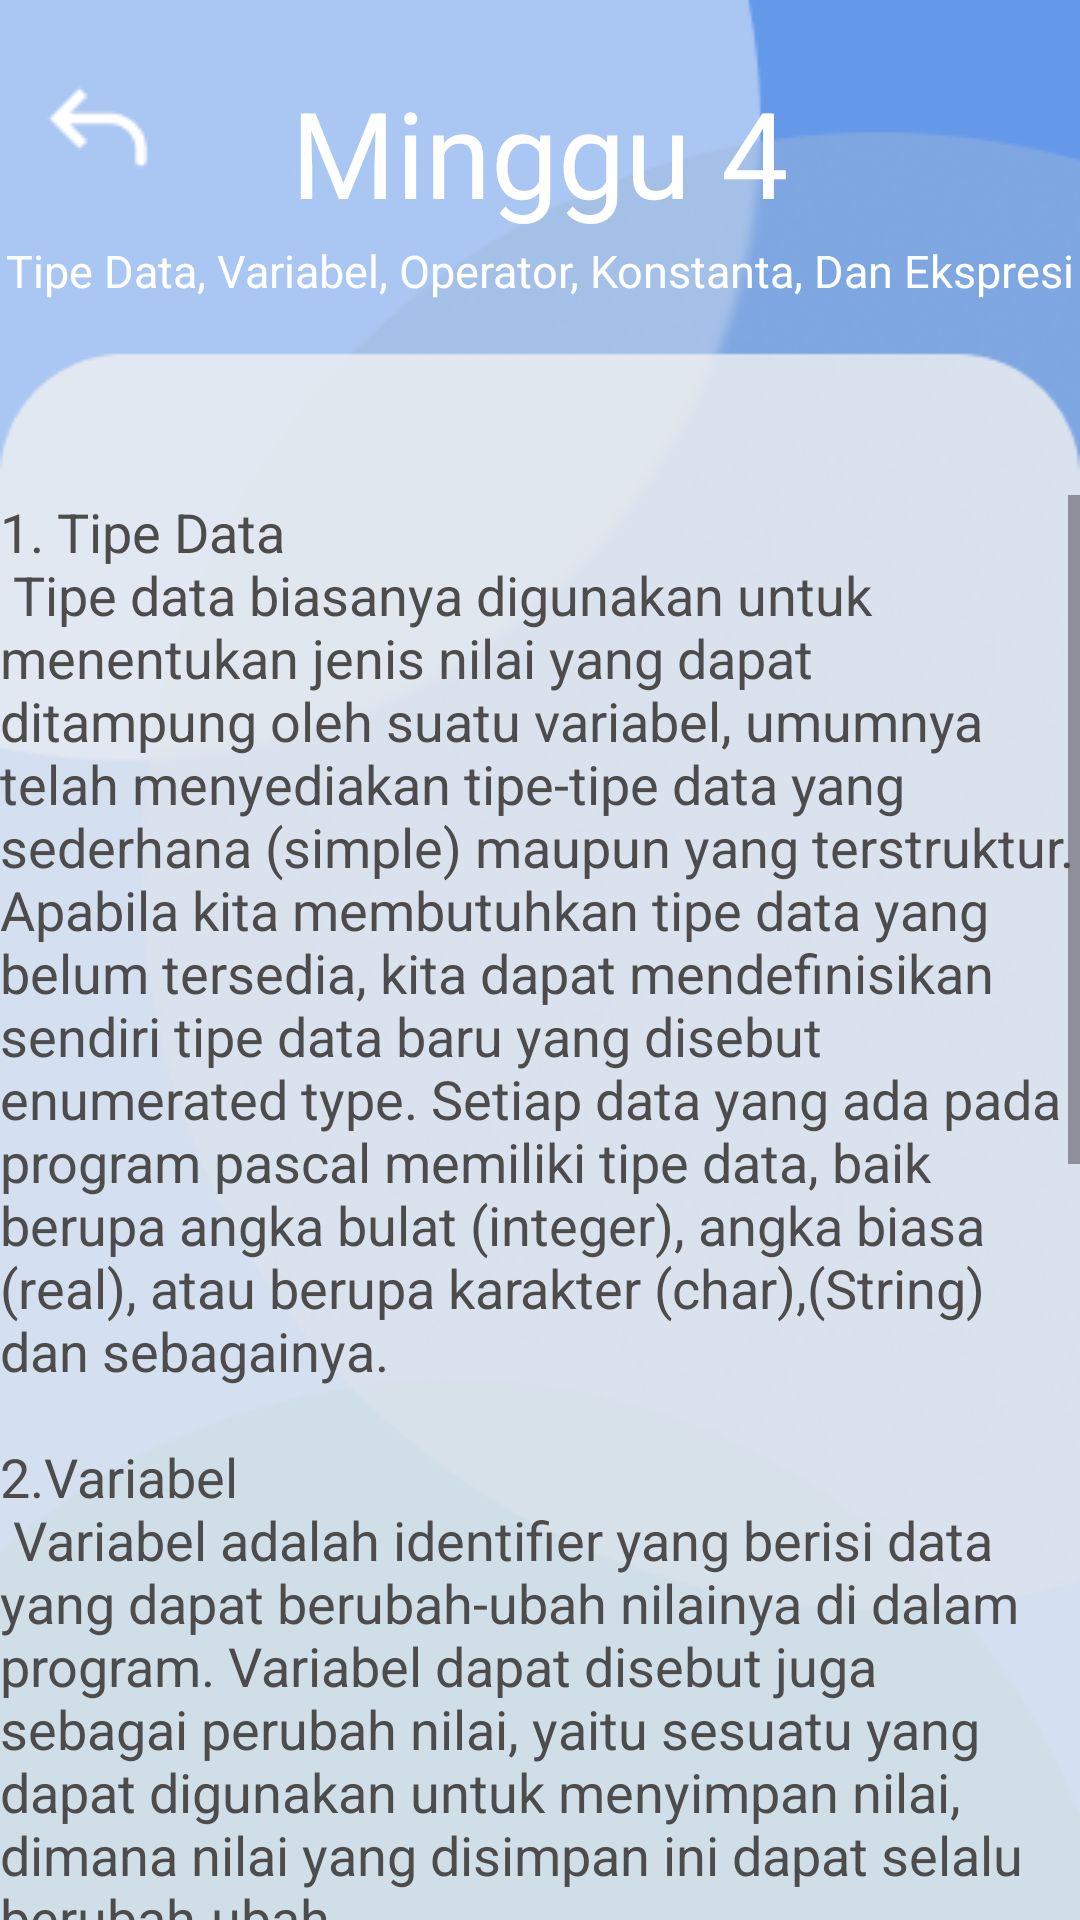

Locate icon controls on the screen. Image size 1080×1920, boxes as (x1, y1, x2, y2).
backbutton: (50, 89, 147, 166)
